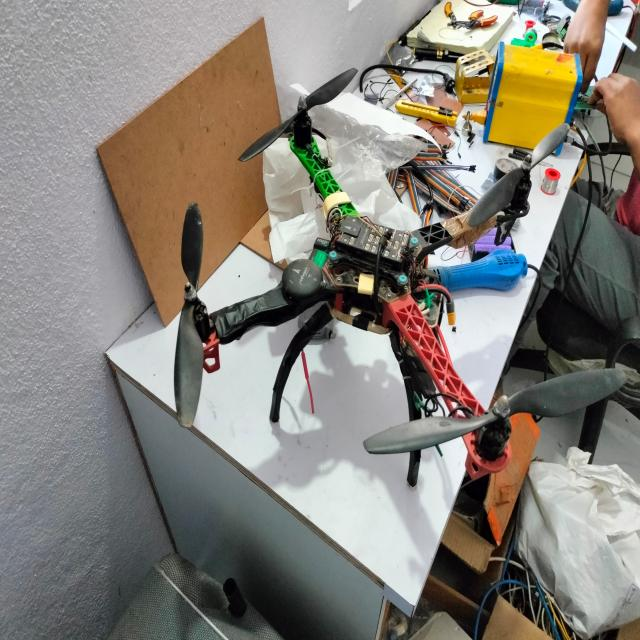drone: (164, 53, 630, 470)
